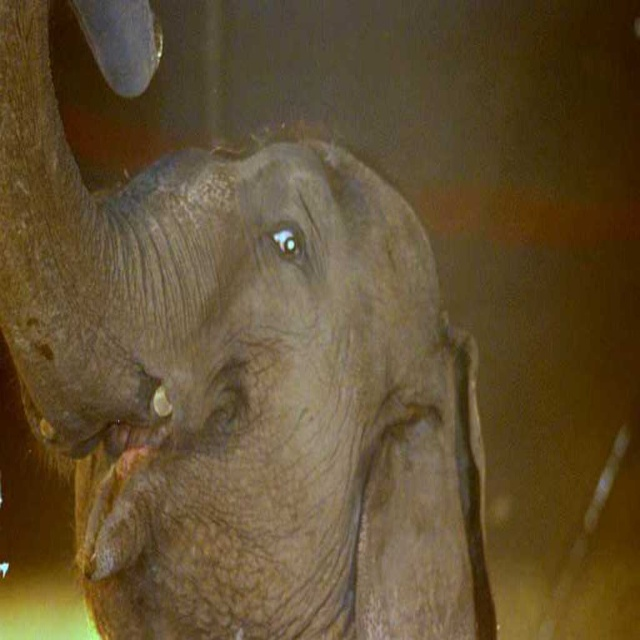Elephant: (0, 49, 518, 640)
